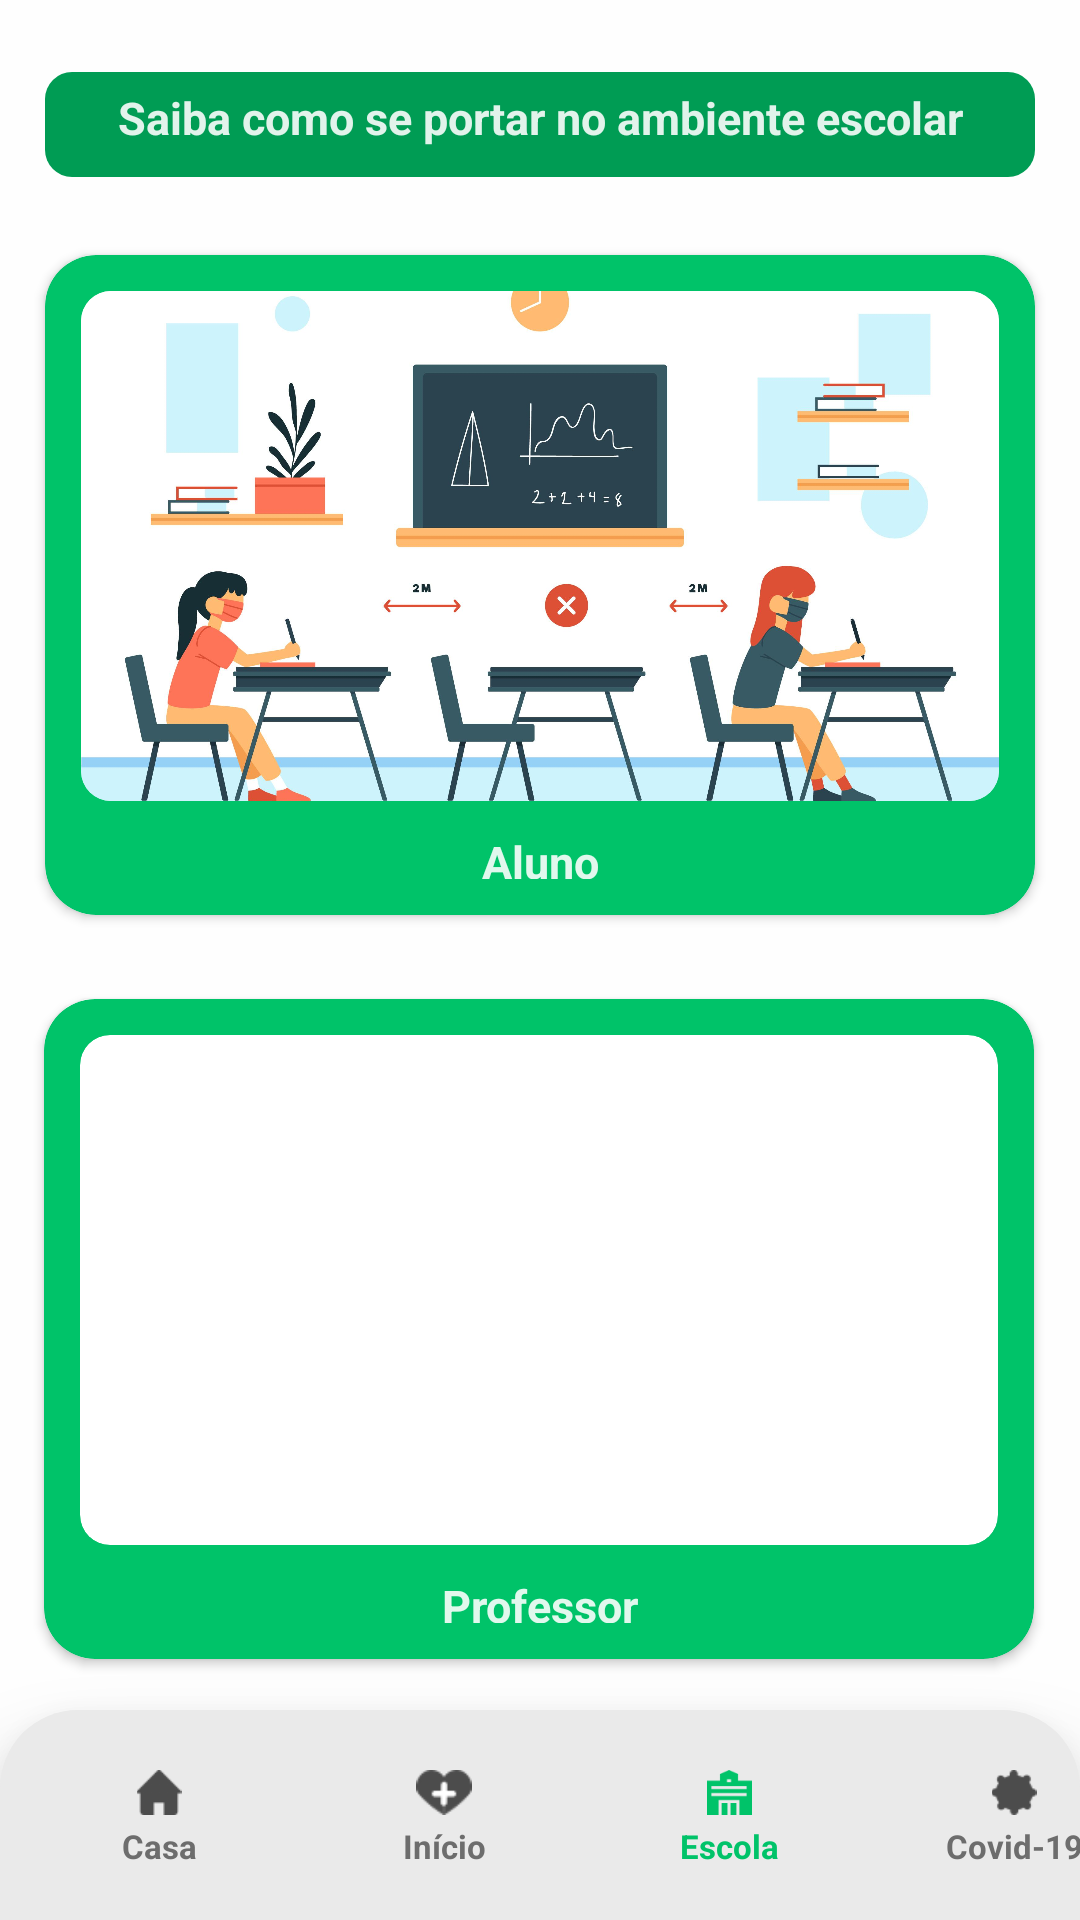

Screen size 1080 × 1920. Icon name, then its center in pixels as [x,y]:
saude: [444,1792]
